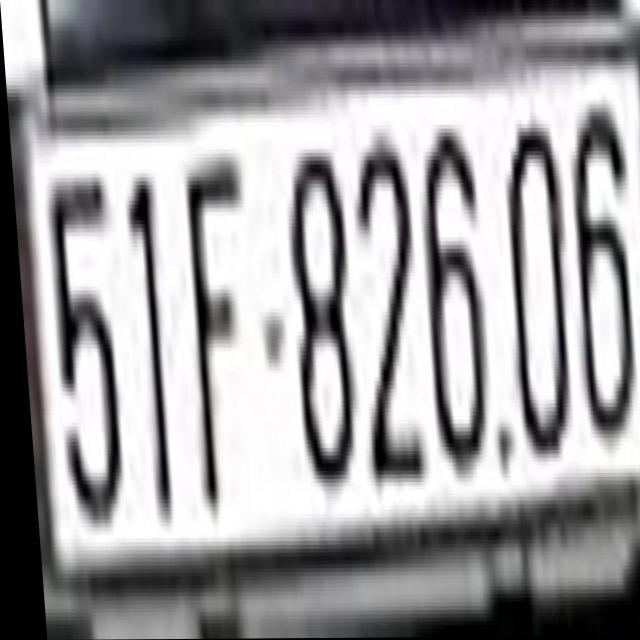0: (495, 124, 570, 467)
1: (117, 150, 173, 523)
2: (347, 145, 420, 487)
5: (38, 158, 122, 516)
6: (415, 121, 489, 471), (562, 105, 635, 435)
8: (280, 142, 355, 503)
F: (173, 134, 254, 500)
